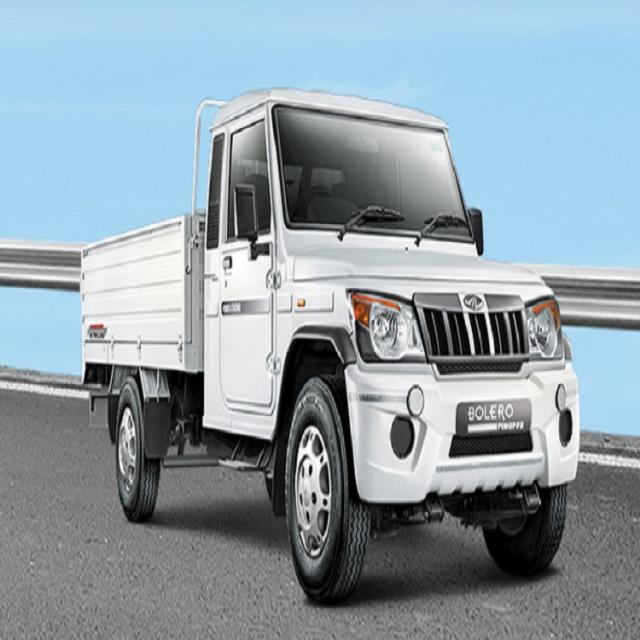light_vehicle: (76, 85, 578, 596)
